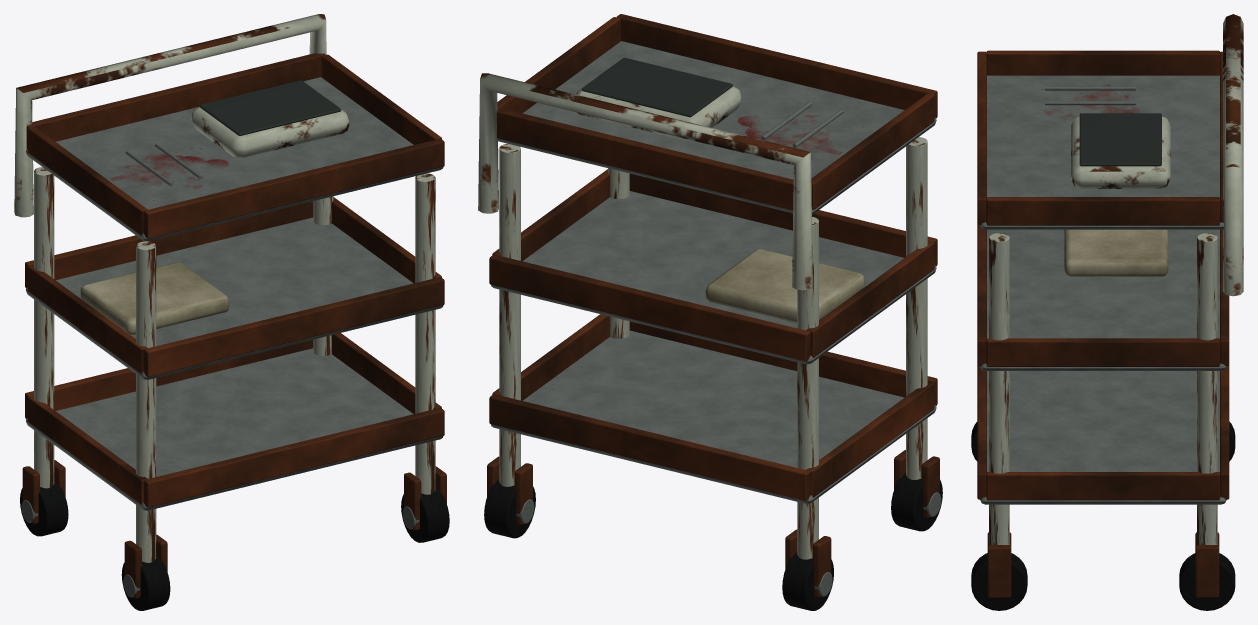
The model's file is medical_trolley.glb.
The picture shows the model from 3 angles, left to right: view 1: azimuth 30°, elevation 25°; view 2: azimuth 150°, elevation 25°; view 3: azimuth 270°, elevation 25°; orthographic projection. The views are drawn at different scales.
Visible parts, largest first — view 1: Instrument shelf, Instrument shelf.001, Instrument shelf.002, Instrument shelf lip.002, Instrument shelf lip, Instrument shelf lip.004, Trolley handle, Instrument shelf lip.005, Folded stained gauze, Trolley upright, Trolley upright.002, Trolley upright.001 (+18 smaller); view 2: Instrument shelf, Instrument shelf.001, Instrument shelf.002, Trolley handle, Instrument shelf lip.001, Instrument shelf lip.003, Instrument shelf lip.005, Instrument shelf lip.004, Folded stained gauze, Trolley upright.003, Trolley upright, Instrument shelf lip.002 (+18 smaller); view 3: Instrument shelf.002, Instrument shelf, Instrument shelf.001, Shelf short lip.005, Shelf short lip.001, Shelf short lip.003, Shelf short lip.004, Trolley handle, Trolley upright.002, Trolley upright.003, Folded stained gauze, Instrument tray recess (+14 smaller).
Part boxes in pixels (box(x1,y1,x2,y2)): Instrument shelf: box(26, 348, 443, 510); Instrument shelf.001: box(26, 217, 443, 379); Instrument shelf.002: box(26, 77, 443, 241); Instrument shelf lip.002: box(143, 277, 444, 376); Instrument shelf lip: box(143, 408, 444, 507); Instrument shelf lip.004: box(143, 138, 444, 238); Trolley handle: box(14, 14, 326, 217); Instrument shelf lip.005: box(26, 53, 325, 148); Folded stained gauze: box(80, 262, 229, 334); Trolley upright: box(136, 241, 156, 562); Trolley upright.002: box(415, 173, 435, 494); Trolley upright.001: box(34, 167, 54, 488); Instrument shelf: box(490, 330, 936, 503); Instrument shelf.001: box(491, 191, 936, 364); Instrument shelf.002: box(497, 41, 936, 214); Trolley handle: box(478, 73, 812, 290); Instrument shelf lip.001: box(489, 394, 810, 500); Instrument shelf lip.003: box(489, 254, 810, 361); Instrument shelf lip.005: box(496, 107, 793, 210); Instrument shelf lip.004: box(617, 14, 937, 118); Folded stained gauze: box(705, 249, 864, 323); Trolley upright.003: box(499, 143, 520, 486); Trolley upright: box(906, 137, 927, 479); Instrument shelf lip.002: box(629, 173, 937, 266); Instrument shelf.002: box(980, 75, 1224, 229); Instrument shelf: box(980, 371, 1226, 504); Instrument shelf.001: box(980, 229, 1226, 370); Shelf short lip.005: box(986, 197, 1220, 225); Shelf short lip.001: box(986, 472, 1220, 500); Shelf short lip.003: box(986, 338, 1220, 366); Shelf short lip.004: box(986, 50, 1220, 75); Trolley handle: box(1223, 14, 1243, 296); Trolley upright.002: box(989, 233, 1009, 544); Trolley upright.003: box(1197, 233, 1217, 544); Folded stained gauze: box(1064, 229, 1168, 276); Instrument tray recess: box(1079, 113, 1161, 166).
Bounding box in the file's own units: 0.852 × 1.14 × 0.629.
Materials: 7 (6 with a texture image).
